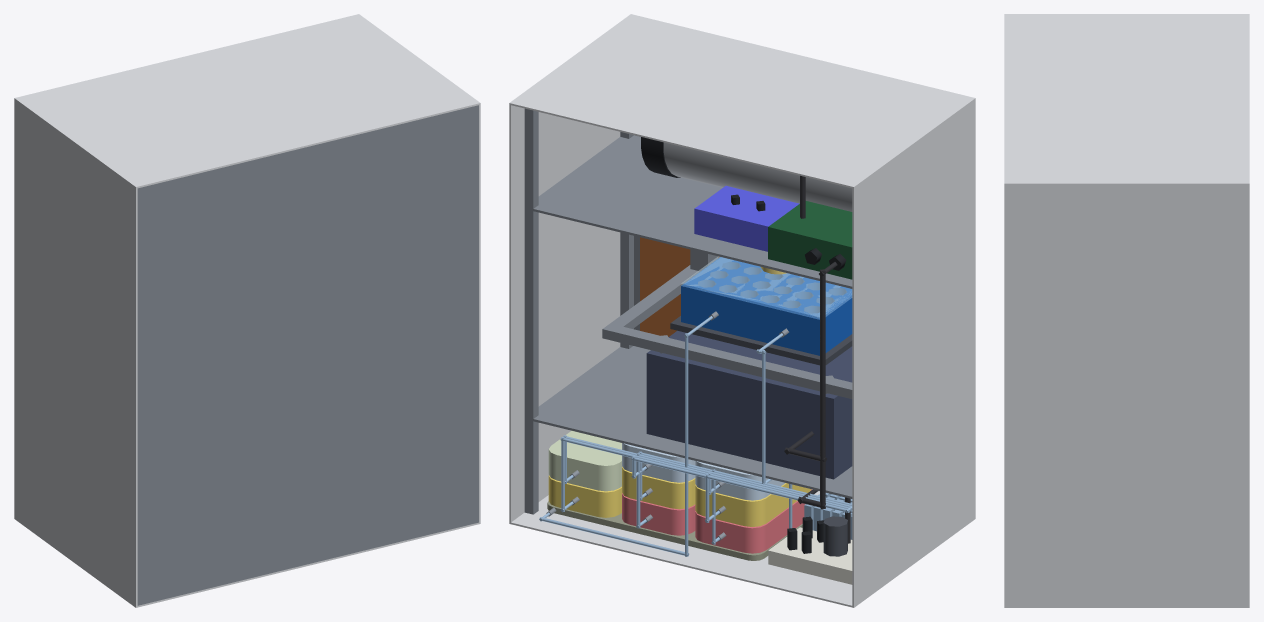
File: MOD-bone-cells.glb
3 renders of one model, left to right at view 1: azimuth 30°, elevation 25°; view 2: azimuth 150°, elevation 25°; view 3: azimuth 270°, elevation 25°, orthographic.
Parts seen in each view (by area): view 1: housing__back_panel_bay_interface, housing__side_panel_L, housing__top_panel, housing__bottom_panel, housing__side_panel_R; view 2: housing__side_panel_L, housing__top_panel, housing__side_panel_R, imaging__microscope_base_optics_filter_cubes_camera, housing__shelf_2, sample__cassette_24_wells_SBS_footprint_19_3_mm_pitch, housing__shelf_1, housing__bottom_panel, housing__corner_post_4, imaging__XY_stage_frame_travel_96_5_x_57_9_mm_every_well_ove, sample__cassette_lid_sealed_and_gas_permeable, sample__m80_C_passive_cryo_cassette_vacuum_insulated_body (+23 smaller); view 3: housing__side_panel_R, housing__top_panel, housing__bottom_panel.
Boxes of the visible parts, box(x1,y1,x2,y2) form: housing__back_panel_bay_interface: box(137, 105, 478, 605); housing__side_panel_L: box(14, 100, 137, 605); housing__top_panel: box(14, 14, 480, 188); housing__bottom_panel: box(14, 517, 480, 607); housing__side_panel_R: box(479, 105, 480, 522); housing__side_panel_L: box(852, 100, 975, 605); housing__top_panel: box(509, 14, 975, 188); housing__side_panel_R: box(509, 105, 620, 522); imaging__microscope_base_optics_filter_cubes_camera: box(646, 330, 852, 479); housing__shelf_2: box(524, 135, 852, 288); sample__cassette_24_wells_SBS_footprint_19_3_mm_pitch: box(681, 257, 852, 355); housing__shelf_1: box(524, 346, 852, 498); housing__bottom_panel: box(509, 489, 975, 607); housing__corner_post_4: box(524, 108, 538, 514); imaging__XY_stage_frame_travel_96_5_x_57_9_mm_every_well_ove: box(602, 265, 852, 398); sample__cassette_lid_sealed_and_gas_permeable: box(681, 256, 852, 319); sample__m80_C_passive_cryo_cassette_vacuum_insulated_body: box(663, 142, 852, 211); housing__side_panel_R: box(1004, 185, 1249, 606); housing__top_panel: box(1004, 14, 1249, 185); housing__bottom_panel: box(1004, 606, 1249, 607).
Bounding box in the file's own units: 0.313 × 0.3652 × 0.1913.
